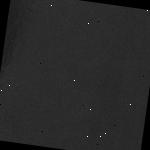colony: (0, 125, 14, 142)
